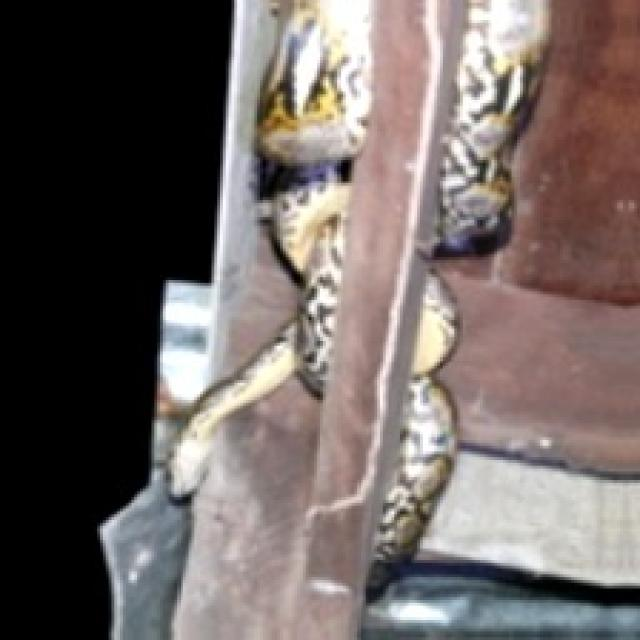reticulated python: (169, 0, 371, 498), (434, 0, 549, 256), (376, 270, 458, 561)
